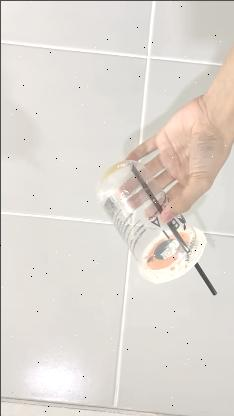Others: (93, 157, 213, 294)
